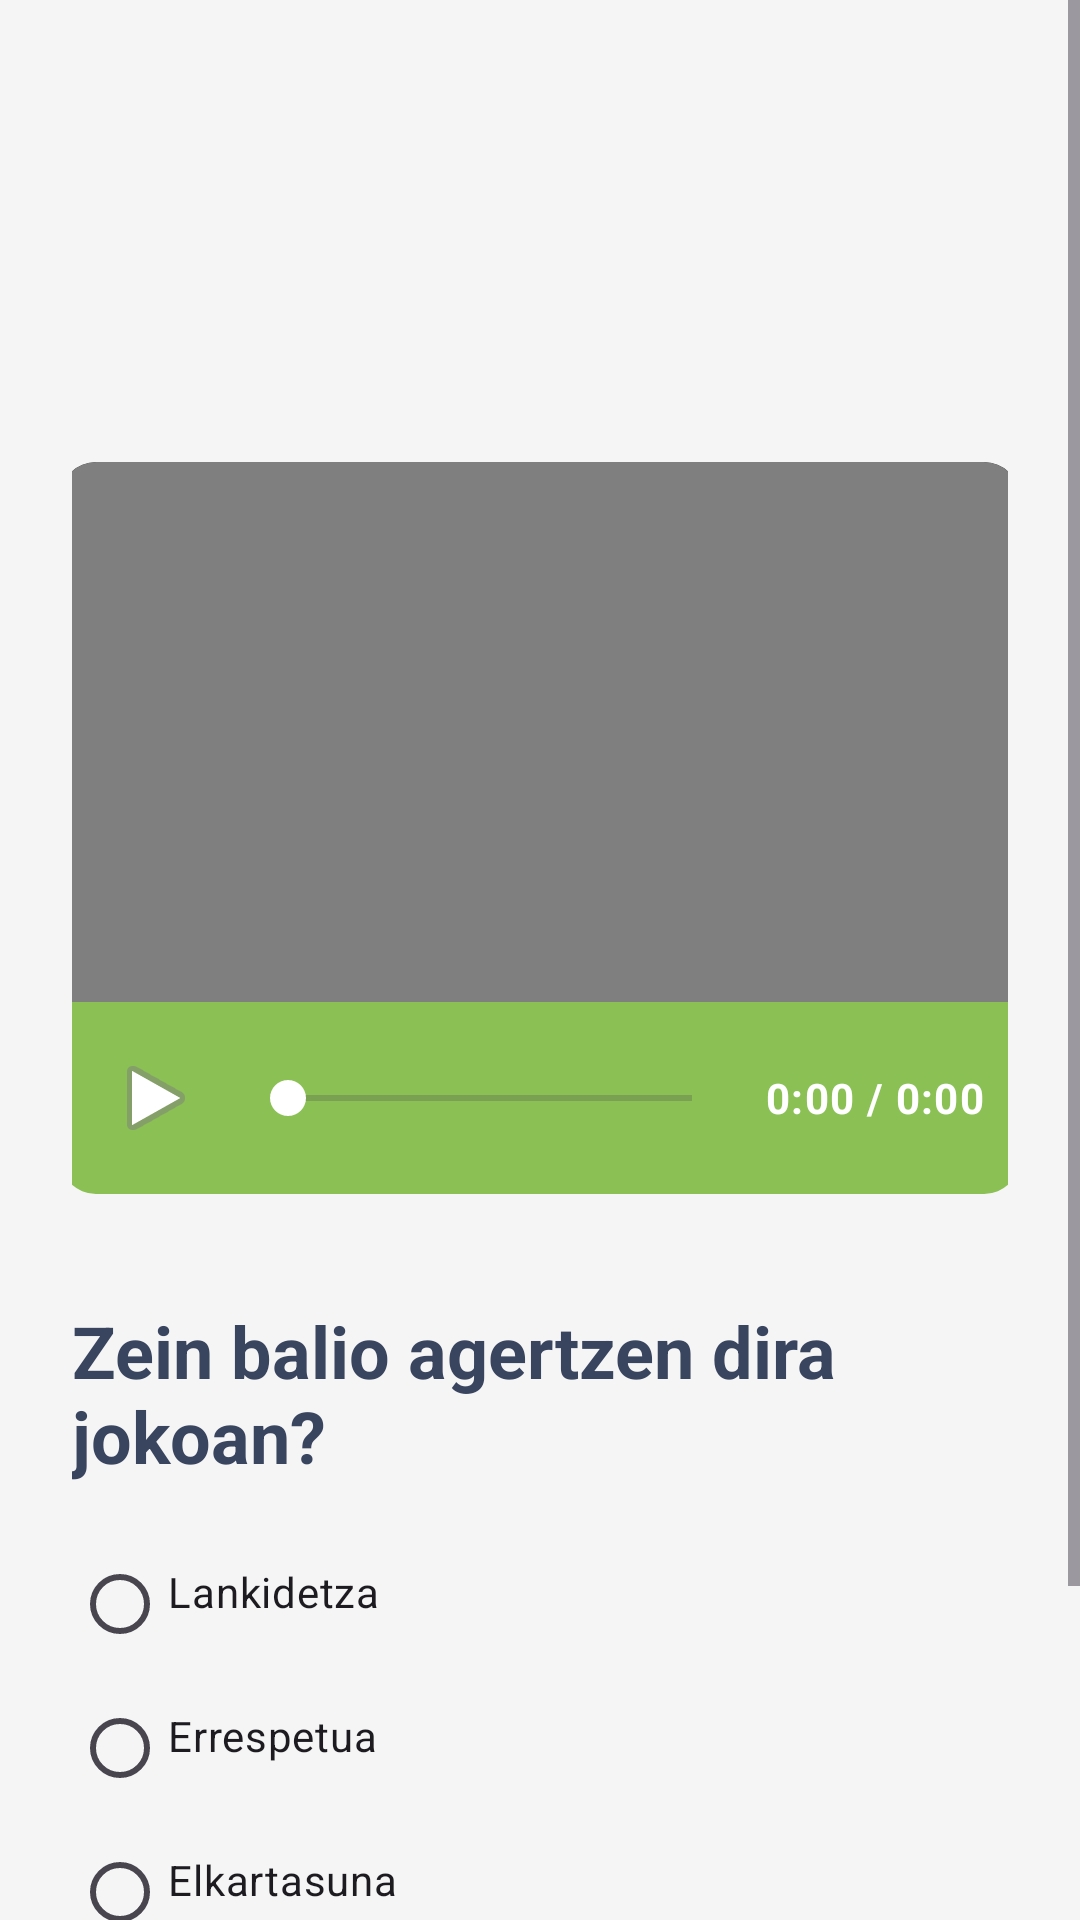

Screen size 1080px x 1920px. Icon name, then its box in pixels as box(x1, y1, x2, y2):
Erreproduzitu/Gelditu: box(127, 1066, 185, 1130)
